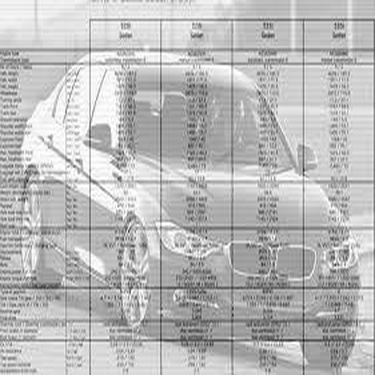car: (1, 35, 361, 367)
